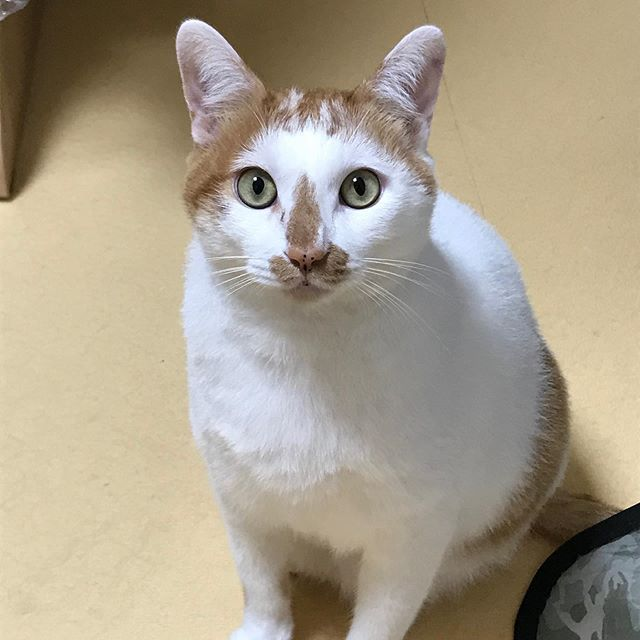cat: (162, 19, 458, 315)
